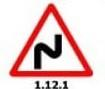road_sign: (7, 2, 95, 78)
